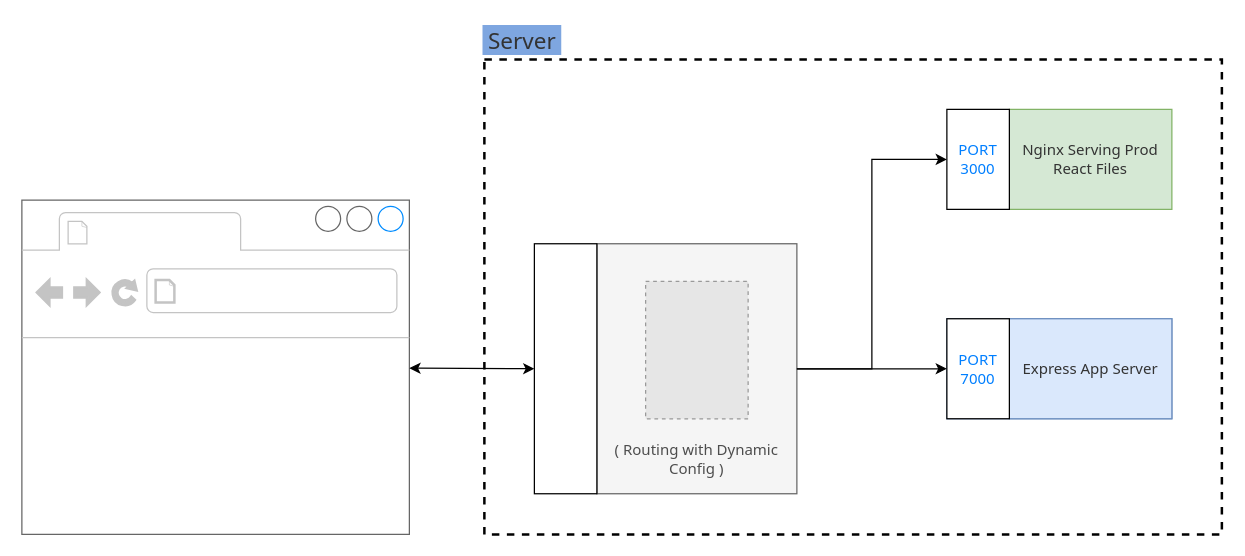
This 1245x556 diagram has some shape labels left out. Grey dashed boxes stand in for pictures. Here are the shapes that lost their labels. From the top down, the centre of each, then its label:
At (x=165, y=231): "Page 1".
At (x=340, y=291): "https://www.draw.io".
At (x=565, y=368): "PORT 80".
